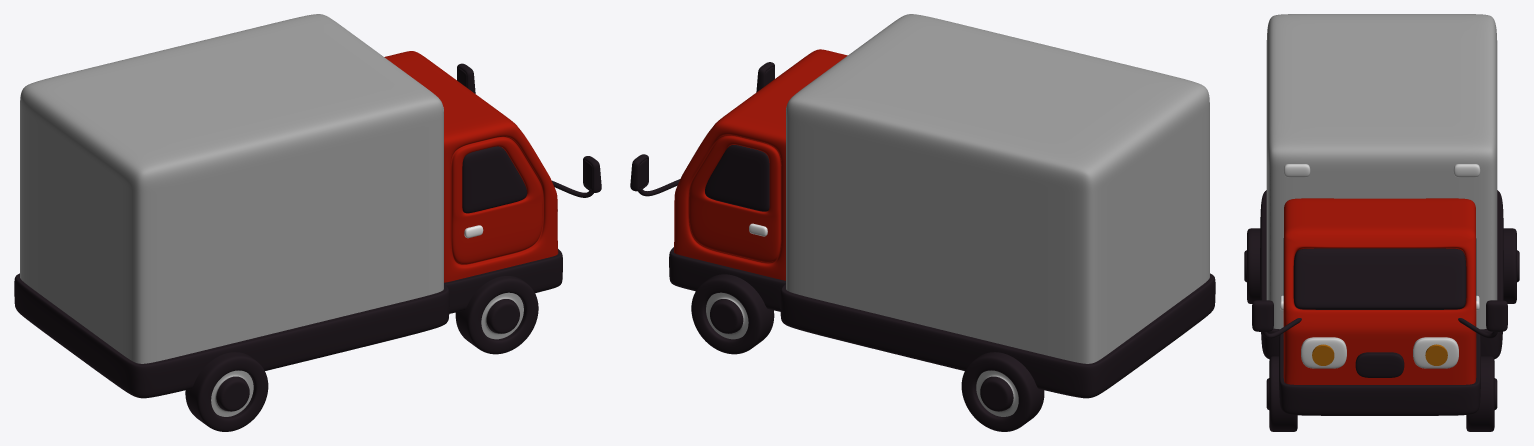
File: truck-3d-icon-690927157037.glb
The picture shows the model from 3 angles, left to right: view 1: azimuth 30°, elevation 25°; view 2: azimuth 150°, elevation 25°; view 3: azimuth 270°, elevation 25°; orthographic projection. The views are drawn at different scales.
Parts seen in each view (by area): view 1: Box, Frame, Body, Tires, Windows, Rims, Mirrors; view 2: Box, Frame, Body, Tires, Windows, Rims, Mirrors; view 3: Box, Body, Windows, Frame, Tires, Lamp Base, Mirrors, Grill, Lamp, Box Lamp.
Boxes of the visible parts, x1=… form: Box: x1=20, y1=14, x2=443, y2=363; Frame: x1=14, y1=249, x2=562, y2=398; Body: x1=384, y1=51, x2=558, y2=282; Tires: x1=185, y1=276, x2=538, y2=431; Windows: x1=462, y1=146, x2=527, y2=213; Rims: x1=211, y1=292, x2=523, y2=416; Mirrors: x1=457, y1=63, x2=601, y2=197; Box: x1=786, y1=14, x2=1209, y2=363; Frame: x1=669, y1=247, x2=1215, y2=398; Body: x1=674, y1=49, x2=847, y2=280; Tires: x1=691, y1=274, x2=1044, y2=431; Windows: x1=705, y1=145, x2=769, y2=211; Rims: x1=706, y1=292, x2=1018, y2=416; Mirrors: x1=630, y1=62, x2=774, y2=196; Box: x1=1266, y1=14, x2=1497, y2=329; Body: x1=1283, y1=198, x2=1476, y2=384; Windows: x1=1283, y1=238, x2=1476, y2=309; Frame: x1=1260, y1=190, x2=1503, y2=415; Tires: x1=1244, y1=228, x2=1519, y2=431; Lamp Base: x1=1301, y1=337, x2=1458, y2=368; Mirrors: x1=1252, y1=300, x2=1507, y2=338; Grill: x1=1355, y1=352, x2=1404, y2=377; Lamp: x1=1312, y1=344, x2=1447, y2=365; Box Lamp: x1=1283, y1=164, x2=1480, y2=177.
Bounding box in the file's own units: 0.738 × 0.4162 × 0.4098.
